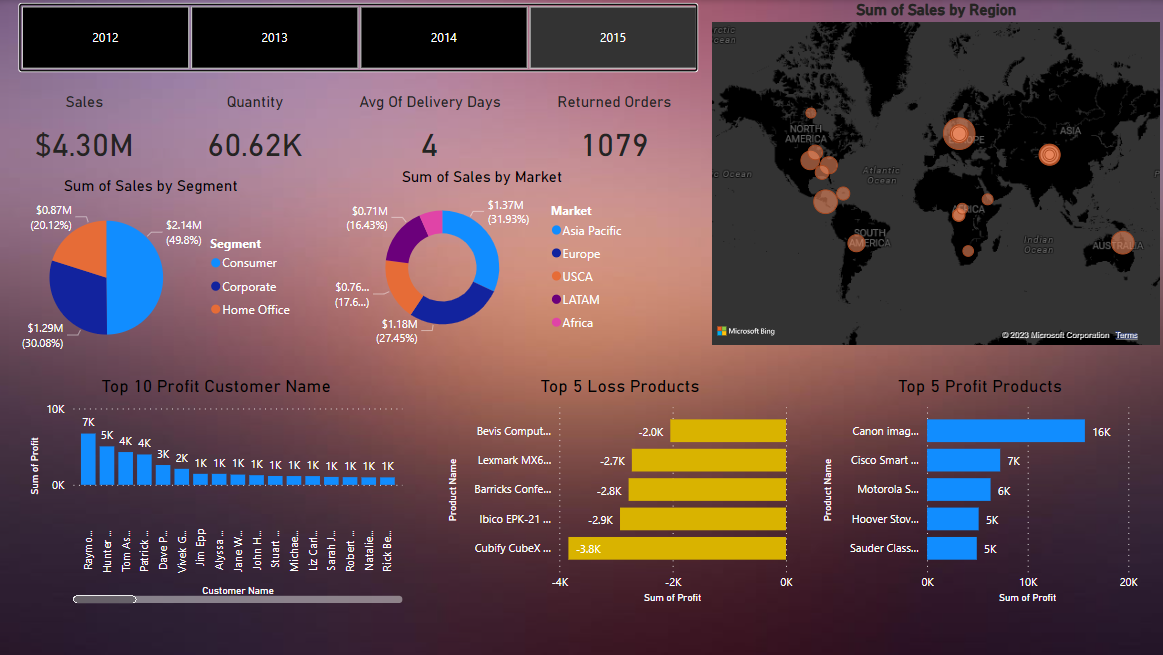

The dashboard page shown, as its layout file describes it:
{"tool":"powerbi","page":{"name":"Page 1","canvas":[1280,720],"ordinal":0},"visuals":[{"type":"card","title":"Sales","fields":{"Values":["Orders.Sales"]},"box":[0,101.5,189.4,90.6],"z":0},{"type":"card","title":"Quantity","fields":{"Values":["Orders.Quantity"]},"box":[189.4,101.5,185.2,90.6],"z":1000},{"type":"card","title":"Avg  Of Delivery Days","fields":{"Values":["Orders.Delivery Date"]},"box":[374.6,101.5,199,90.6],"z":2000},{"type":"slicer","fields":{"Values":["Orders.Year"]},"box":[0,0,790.4,82.3],"z":3000},{"type":"card","title":"Returned Orders","fields":{"Values":["Returns.Return Orders"]},"box":[573.6,101.5,205.8,90.6],"z":4000},{"type":"map","fields":{"Size":["Orders.Sales"],"Category":["Orders.Region"]},"box":[779.4,0,500.9,382.8],"z":5000},{"type":"barChart","title":"Top 5 Profit Products","fields":{"Y":["Orders.Profit"],"Category":["Orders.Product Name"]},"box":[898.8,413,355.4,253.9],"z":6000},{"type":"barChart","title":"Top 5 Loss Products","fields":{"Y":["Orders.Profit"],"Category":["Orders.Product Name"]},"box":[488.5,413,388.3,253.9],"z":7000},{"type":"pieChart","fields":{"Category":["Orders.Segment"],"Y":["Orders.Sales"]},"box":[0,193.5,334.8,203.1],"z":8000},{"type":"donutChart","fields":{"Category":["Orders.Market"],"Y":["Orders.Sales"]},"box":[363.6,183.9,334.8,200.3],"z":9000},{"type":"map","fields":{"Size":["Orders.Sales"],"Category":["Orders.Region"]},"box":[779.1,0,500.9,382.8],"z":10000},{"type":"columnChart","title":"Top 10 Profit Customer Name","fields":{"Y":["Orders.Profit"],"Category":["Orders.Customer Name"]},"box":[30.2,413,418.5,253.9],"z":11000}]}

Visuals, with their boxes in screenshot pixels (x1, y1, x2, y2), scaled from the page's 1280x720 canvas onto the 1163x655 screenshot:
"Sales" card: bbox=(0, 92, 172, 175)
"Quantity" card: bbox=(172, 92, 340, 175)
"Avg  Of Delivery Days" card: bbox=(340, 92, 521, 175)
slicer - Orders.Year: bbox=(0, 0, 718, 75)
"Returned Orders" card: bbox=(521, 92, 708, 175)
map - Orders.Sales x Orders.Region: bbox=(708, 0, 1162, 348)
"Top 5 Profit Products" barChart: bbox=(817, 376, 1140, 607)
"Top 5 Loss Products" barChart: bbox=(444, 376, 797, 607)
pieChart - Orders.Segment x Orders.Sales: bbox=(0, 176, 304, 361)
donutChart - Orders.Market x Orders.Sales: bbox=(330, 167, 635, 350)
map - Orders.Sales x Orders.Region: bbox=(708, 0, 1162, 348)
"Top 10 Profit Customer Name" columnChart: bbox=(27, 376, 408, 607)
